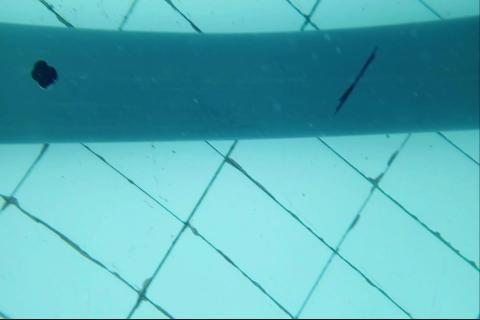kebocoran: (32, 58, 60, 90)
keretakan: (332, 45, 382, 117)
